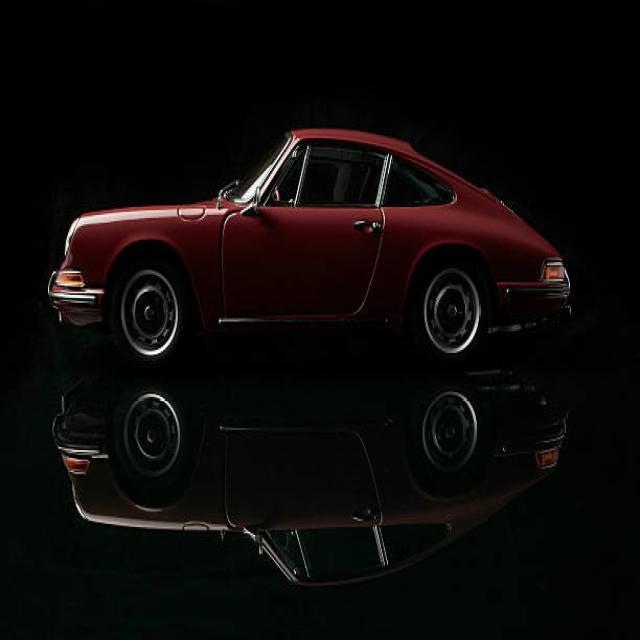Car: (46, 125, 572, 368), (51, 362, 569, 588)
